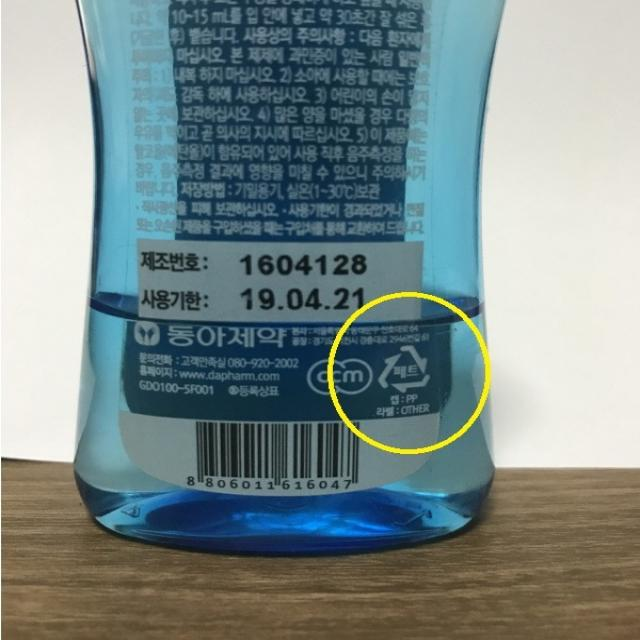PET: (375, 342, 432, 393)
